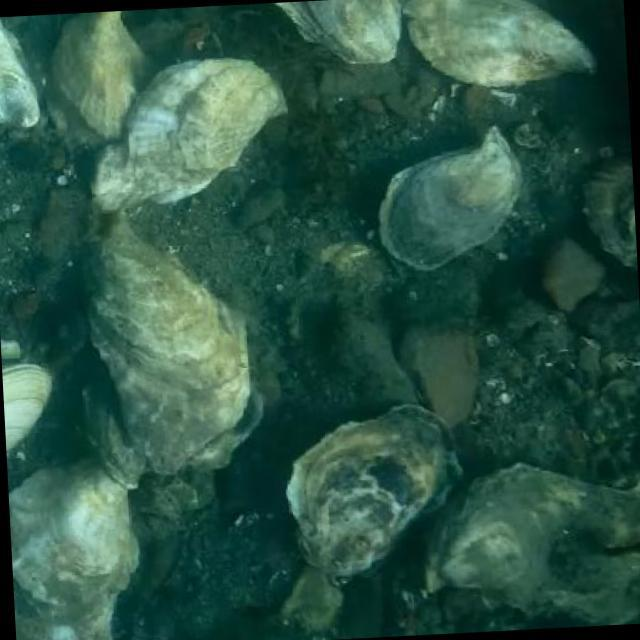Oyster- Indeterminate: (92, 214, 251, 473), (423, 464, 640, 626), (90, 58, 290, 215), (286, 403, 464, 576), (9, 458, 139, 640), (381, 127, 523, 271), (51, 10, 158, 177), (403, 0, 597, 85), (276, 0, 401, 63), (80, 383, 147, 486), (586, 156, 638, 273), (0, 20, 39, 128)
